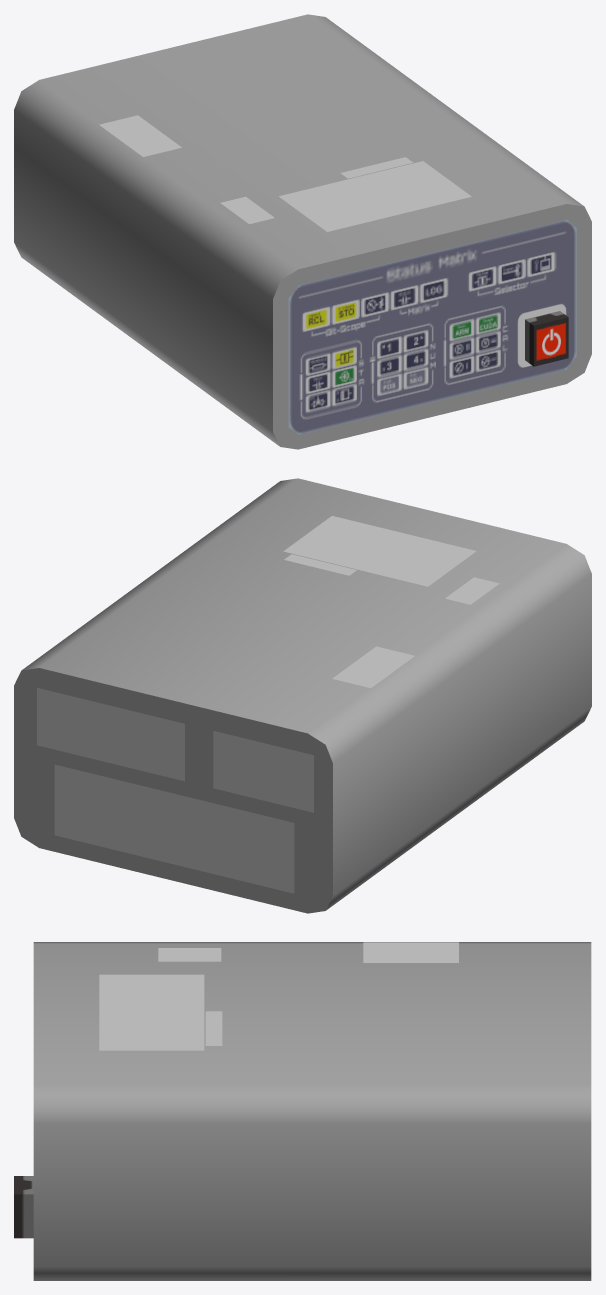
File: Prop_50_Box.fbx
The picture shows the model from 3 angles, top to bottom: view 1: azimuth 30°, elevation 25°; view 2: azimuth 150°, elevation 25°; view 3: azimuth 270°, elevation 25°; orthographic projection. The views are drawn at different scales.
Visible parts, largest first — view 1: Prop_50_Box, LOD_0.157; view 2: Prop_50_Box; view 3: Prop_50_Box, LOD_0.157.
Boxes of the visible parts, <box> form: Prop_50_Box: <box>14,14,591,449</box>; LOD_0.157: <box>288,219,576,434</box>; Prop_50_Box: <box>14,478,591,913</box>; Prop_50_Box: <box>33,942,591,1280</box>; LOD_0.157: <box>14,1176,33,1238</box>.
Size of what is drawn, in the model's own units: 0.3496 by 0.1893 by 0.5096.
